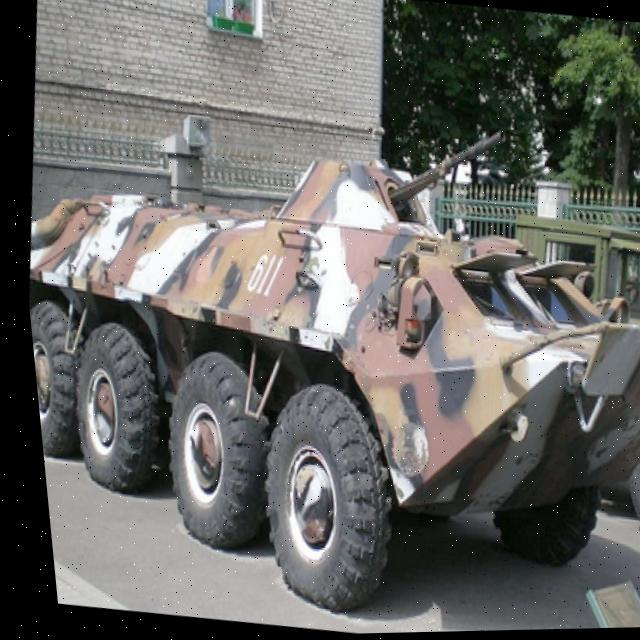MIL_APC: (8, 96, 640, 639)
